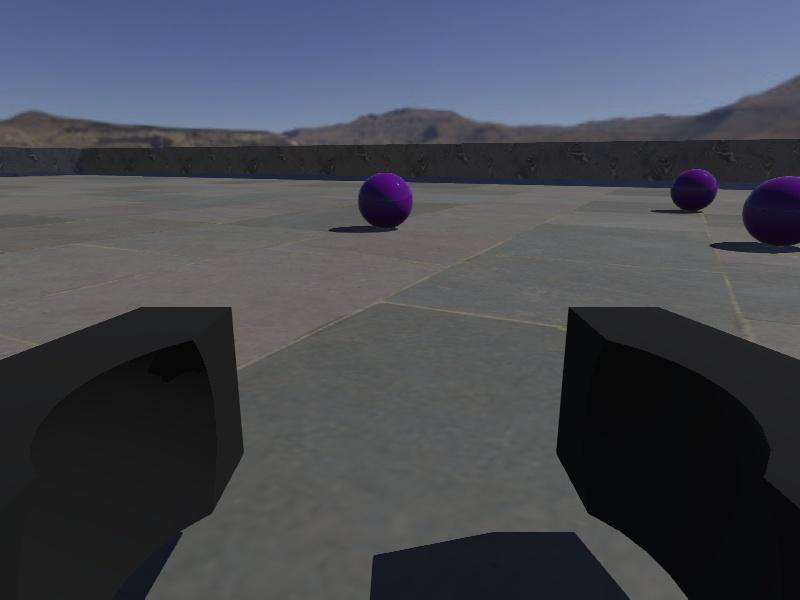violet ball: (357, 172, 414, 231), (672, 168, 718, 212)
